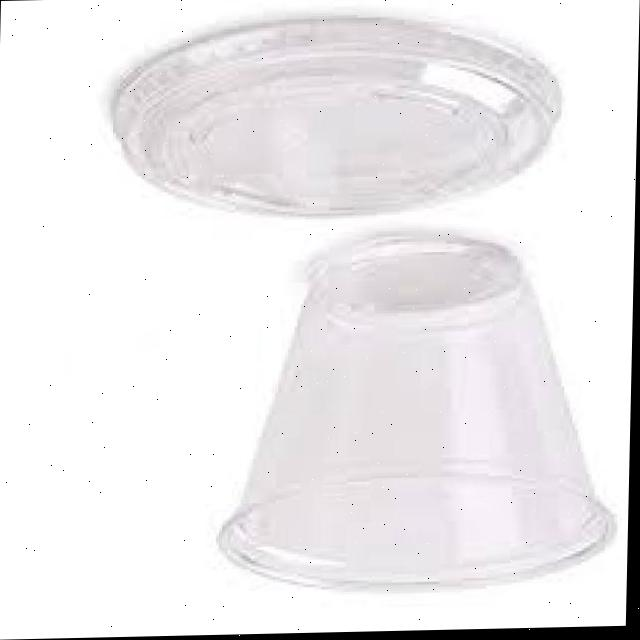cup: (208, 210, 625, 617)
